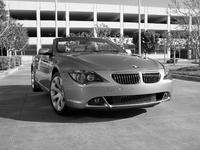car: (31, 40, 173, 114)
